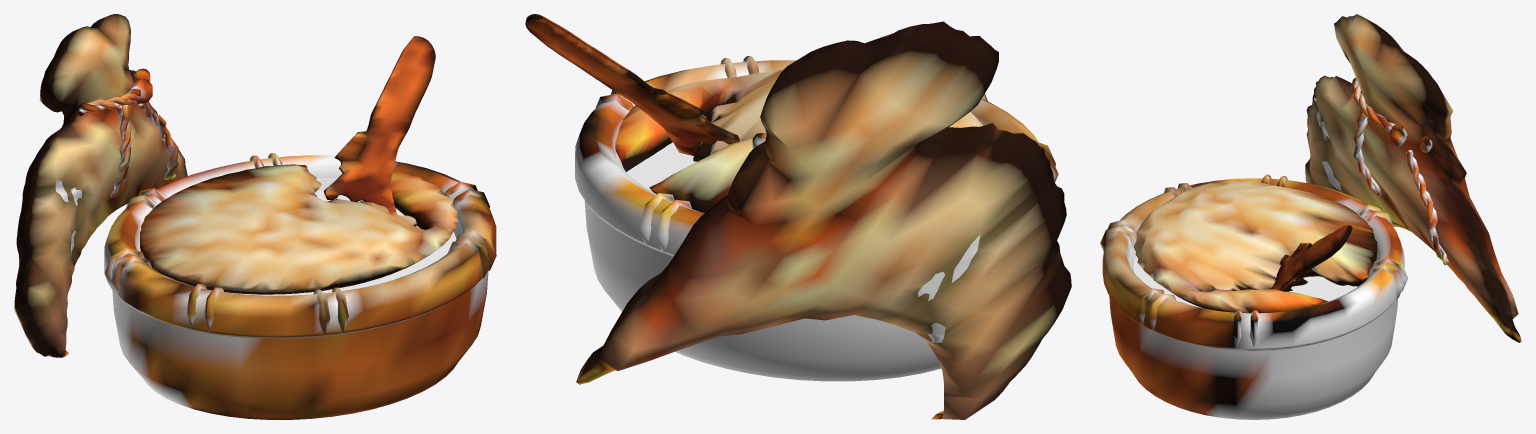
Rendered from SM_rice_prep.fbx.
3 renders of one model, left to right at view 1: azimuth 30°, elevation 25°; view 2: azimuth 150°, elevation 25°; view 3: azimuth 270°, elevation 25°, orthographic. The views are drawn at different scales.
Parts seen in each view (by area): view 1: SM_rice_prep; view 2: SM_rice_prep; view 3: SM_rice_prep.
Boxes of the visible parts, x1,y1,x2,y2 form: SM_rice_prep: (14, 14, 496, 419); SM_rice_prep: (525, 14, 1071, 419); SM_rice_prep: (1100, 14, 1521, 419).
Size of the model in its own units: 0.3371 by 0.2398 by 0.3322.
